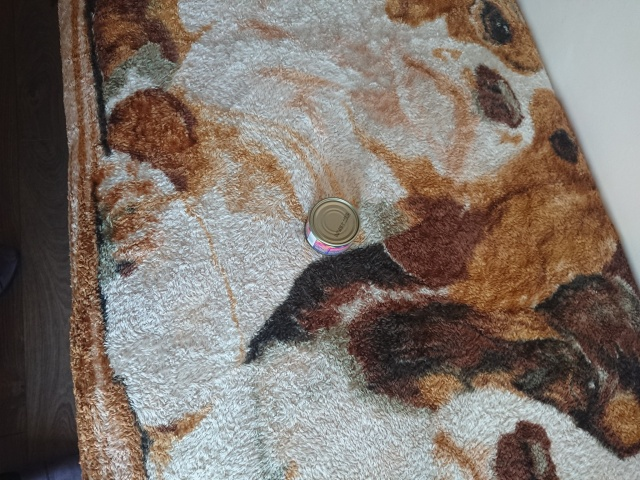Giana Tuna Salad Mexico 185g: (303, 196, 361, 258)
